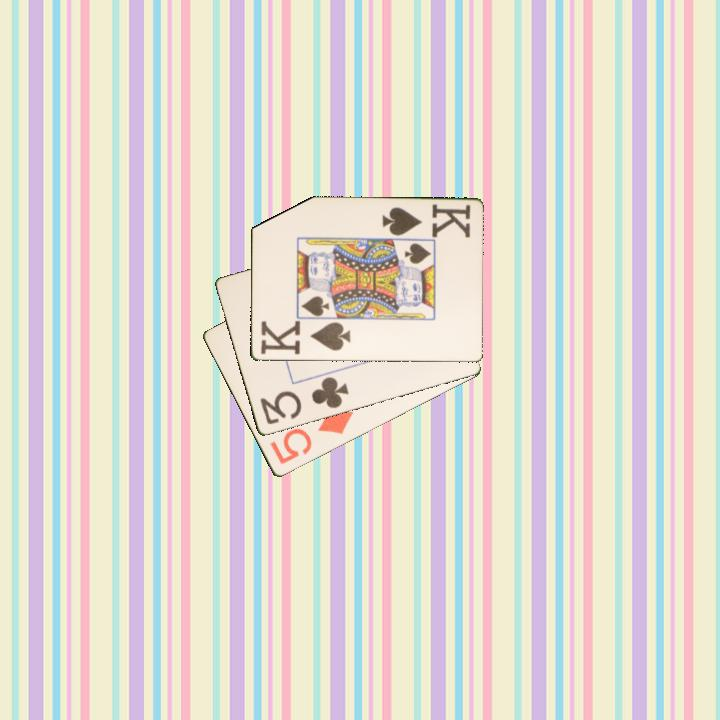3c: (256, 373, 351, 428)
5d: (266, 405, 357, 468)
Ks: (378, 201, 473, 240), (257, 319, 353, 357)
